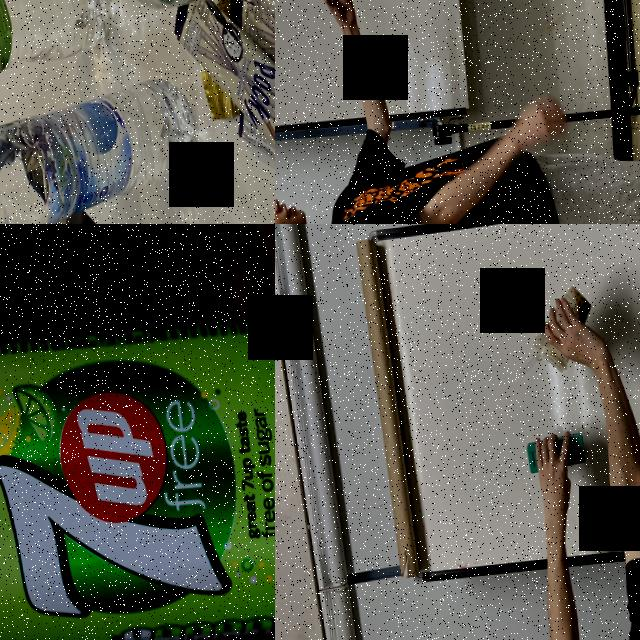bottle: (0, 70, 209, 224), (0, 0, 105, 95)
can: (0, 312, 275, 640)
cup: (527, 282, 599, 378)
